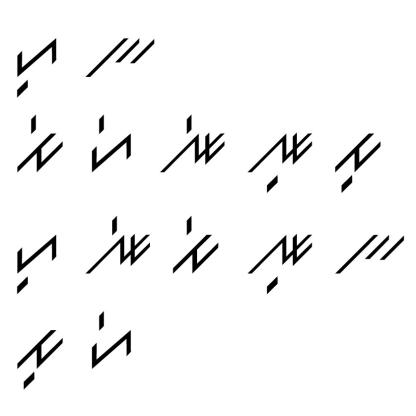he: (87, 308, 141, 370), (87, 110, 137, 174)
hu: (8, 231, 65, 300), (7, 34, 62, 99)
mbe: (166, 214, 224, 275), (13, 116, 70, 175)
mbu: (5, 326, 72, 396), (325, 132, 384, 192)
nde: (156, 106, 231, 182), (83, 205, 154, 283)
ndu: (248, 116, 316, 197), (241, 228, 315, 297)
